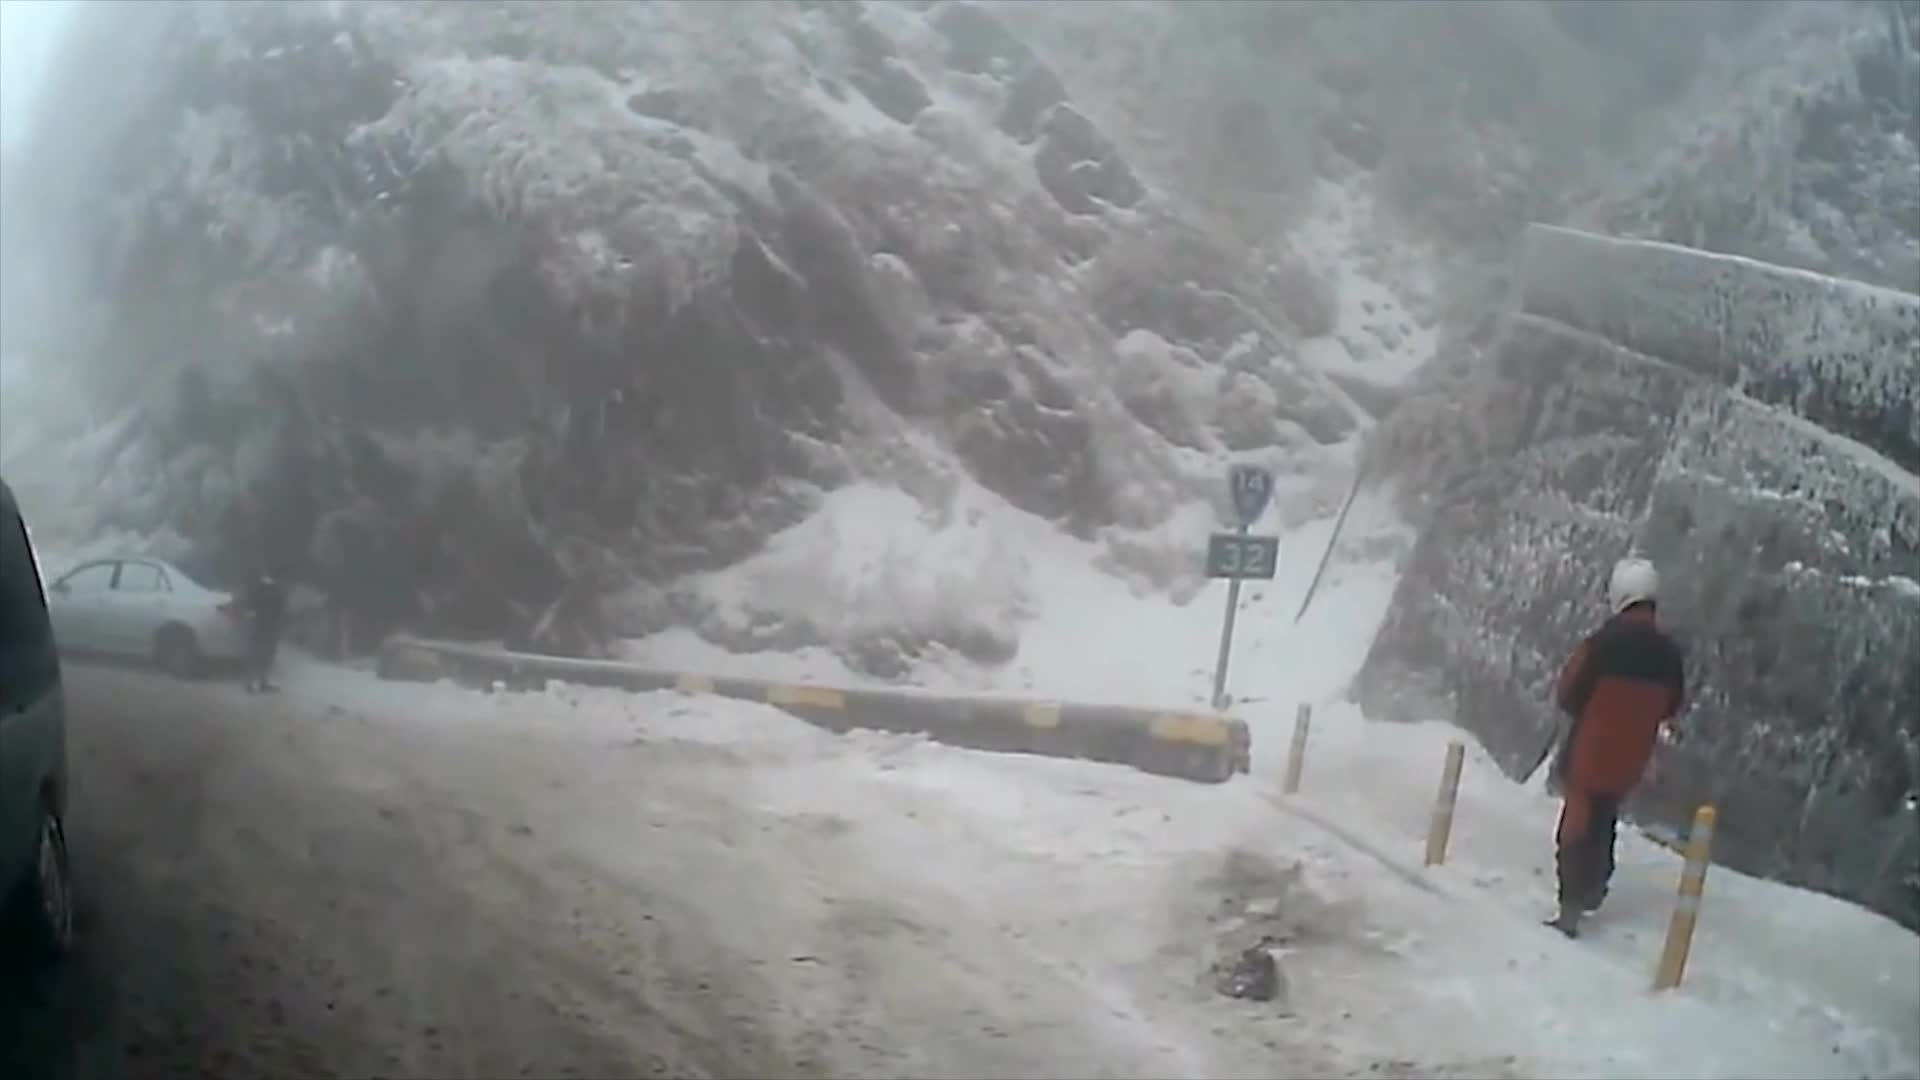pedestrian: (1548, 552, 1686, 938), (230, 565, 287, 696)
vehicle: (0, 483, 74, 1037), (2, 554, 262, 678)
